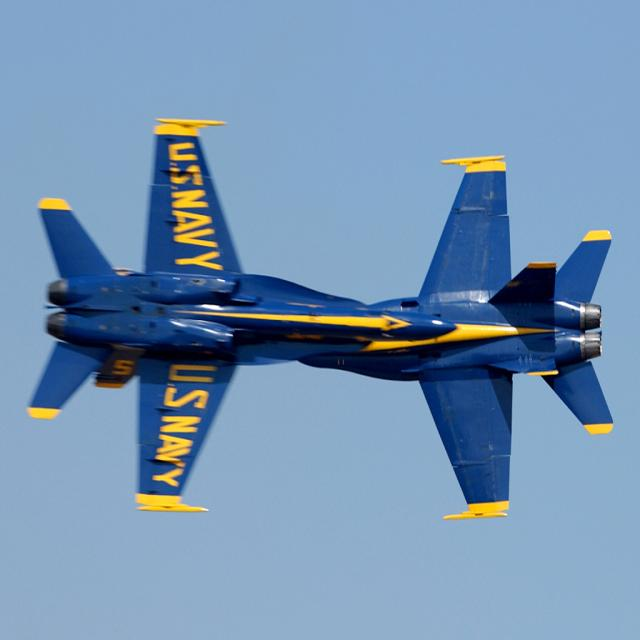MIL_Plane: (26, 116, 462, 513), (298, 152, 614, 521)
